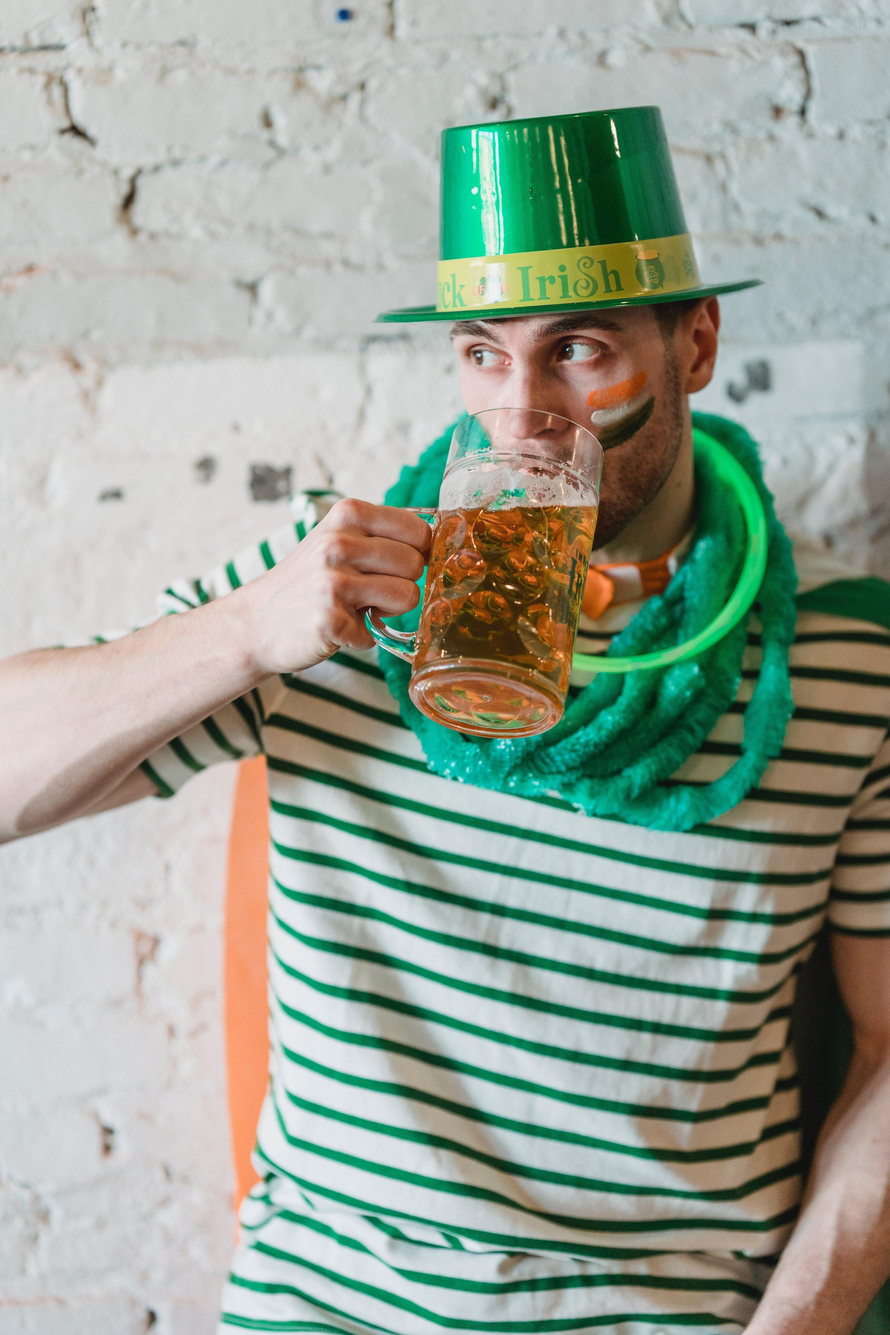glass-mug: (358, 400, 607, 742)
